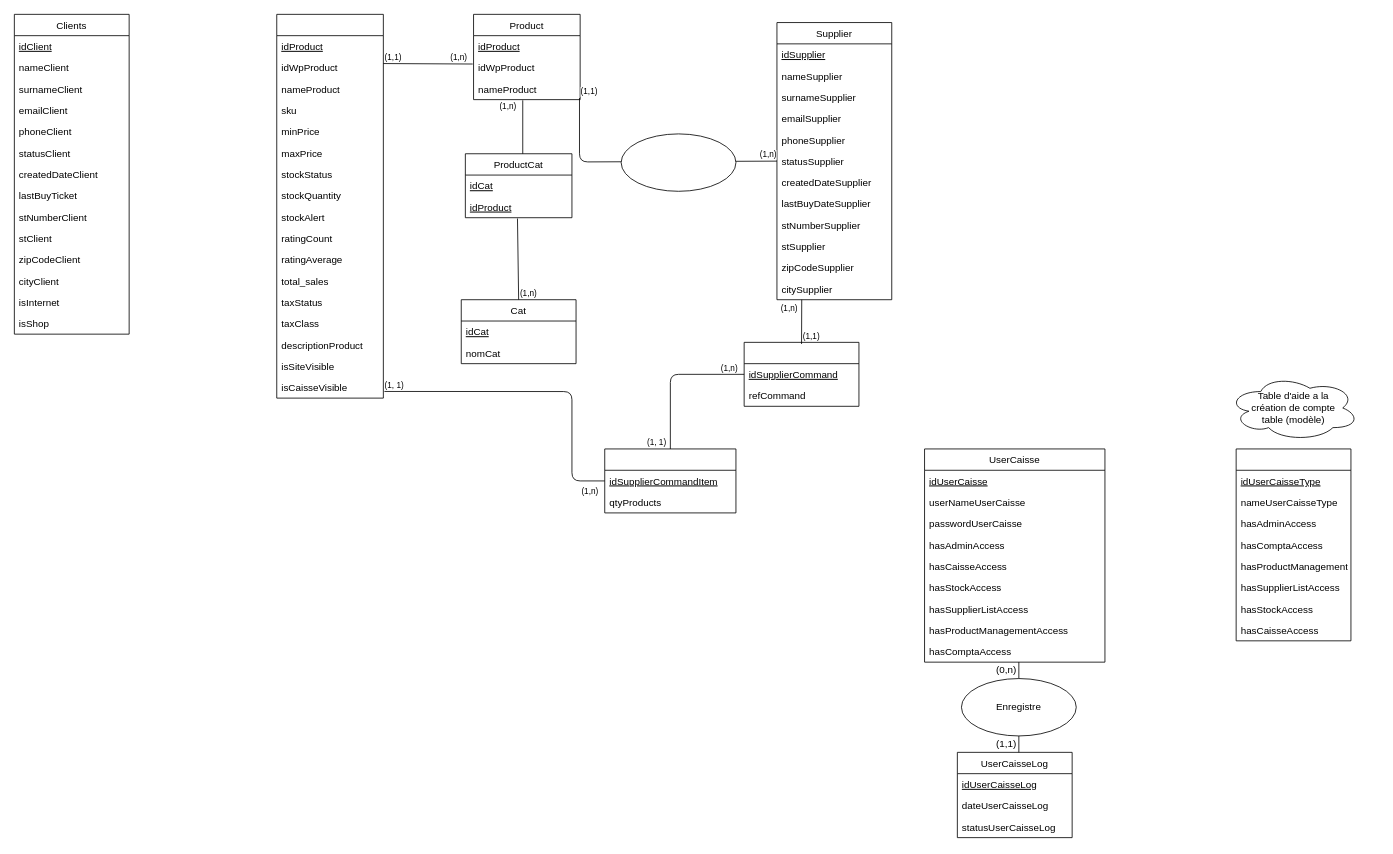
Some shapes in this 1393 by 854 pixel diagram are drawn without their labels. Each missing label, with the box of its shape:
Fournir: (620, 133, 736, 191)
SubProduct: (276, 14, 383, 398)
SupplierCommands: (743, 342, 859, 406)
SupplierCommandsItem: (604, 448, 736, 513)
UserCaisseTypeModel: (1235, 448, 1351, 641)
